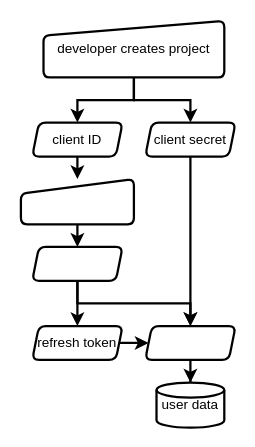
Image size: 255x447. Some labels were removed from this diagram. Each missing label, with the centre of its shape:
"access token" goes at point (190, 342).
"auth code" goes at point (77, 263).
"user logs in" goes at point (76, 201).
